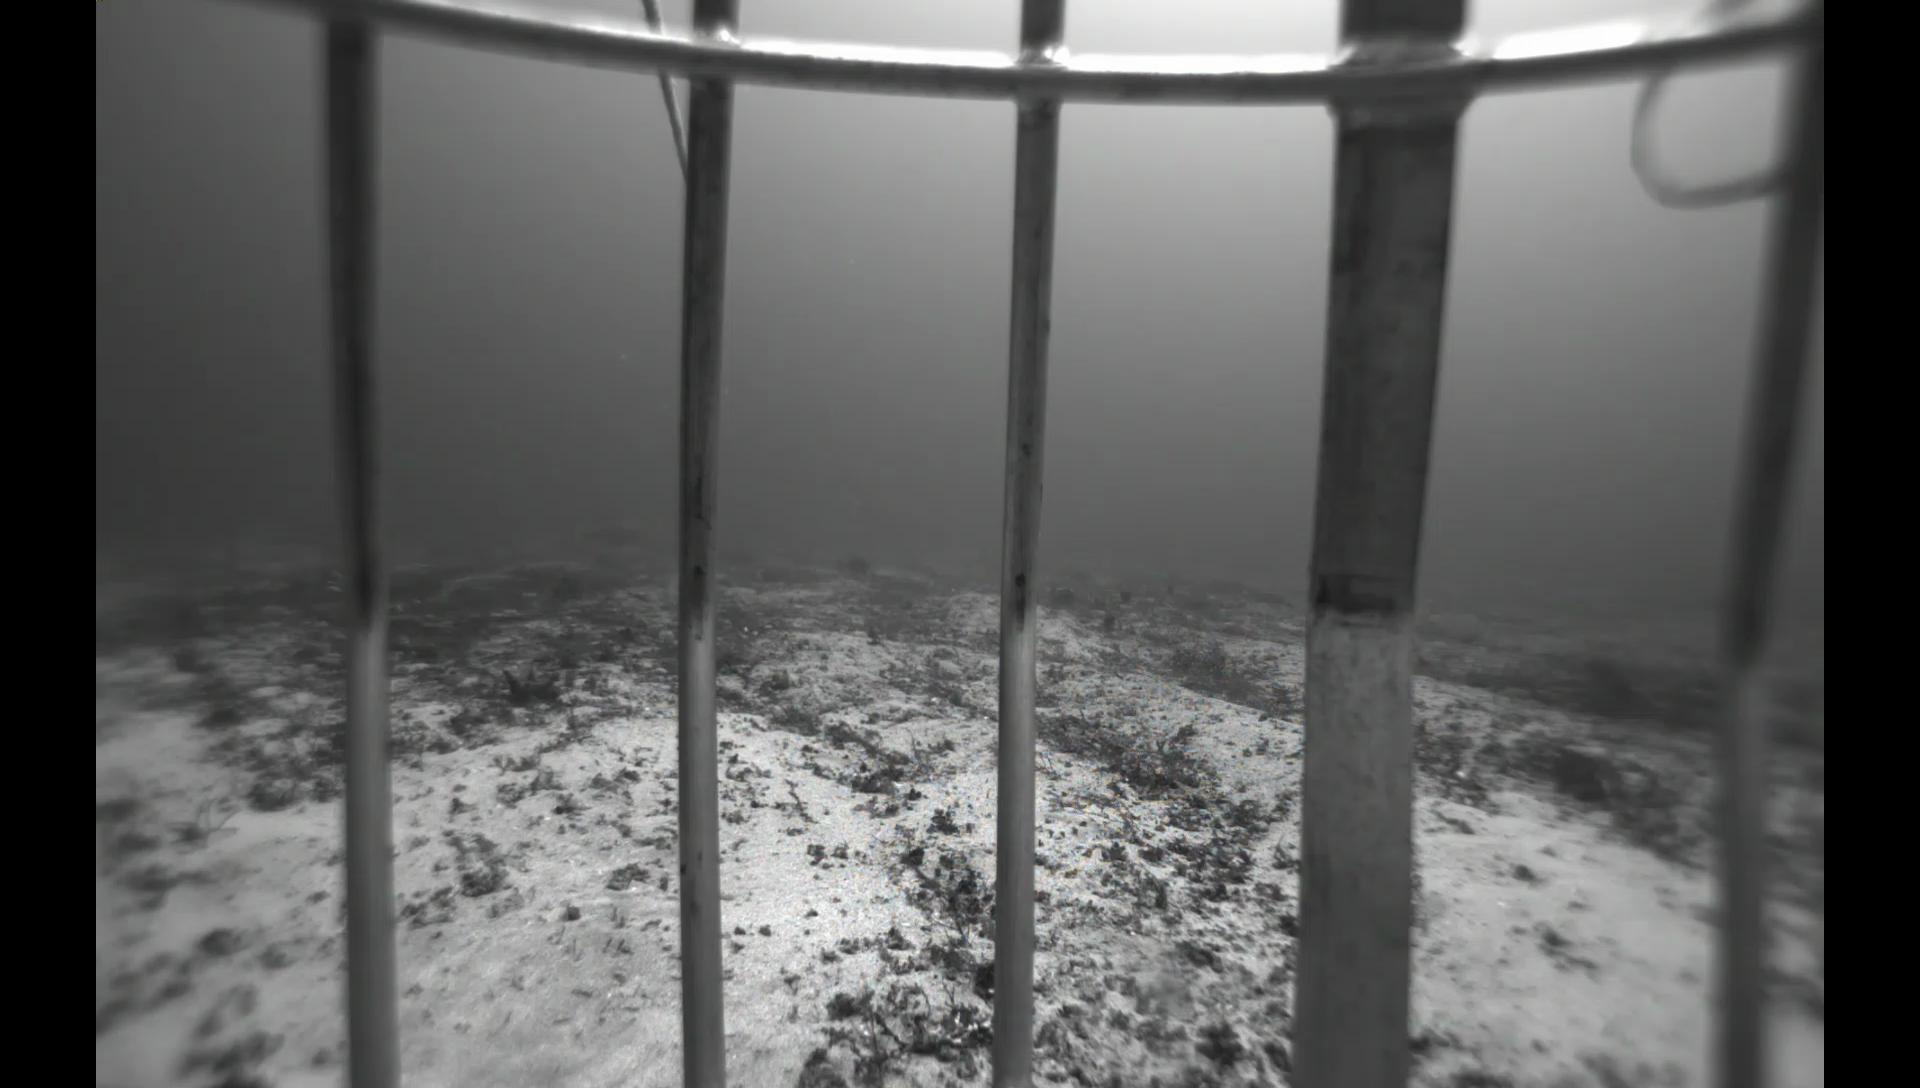EPINEPHELUSMORIO-170021211: (555, 510, 665, 555)
PRIACANTHUSARENATUS-170050101: (824, 545, 876, 584)
PTEROIS-168011900: (310, 553, 436, 626)
